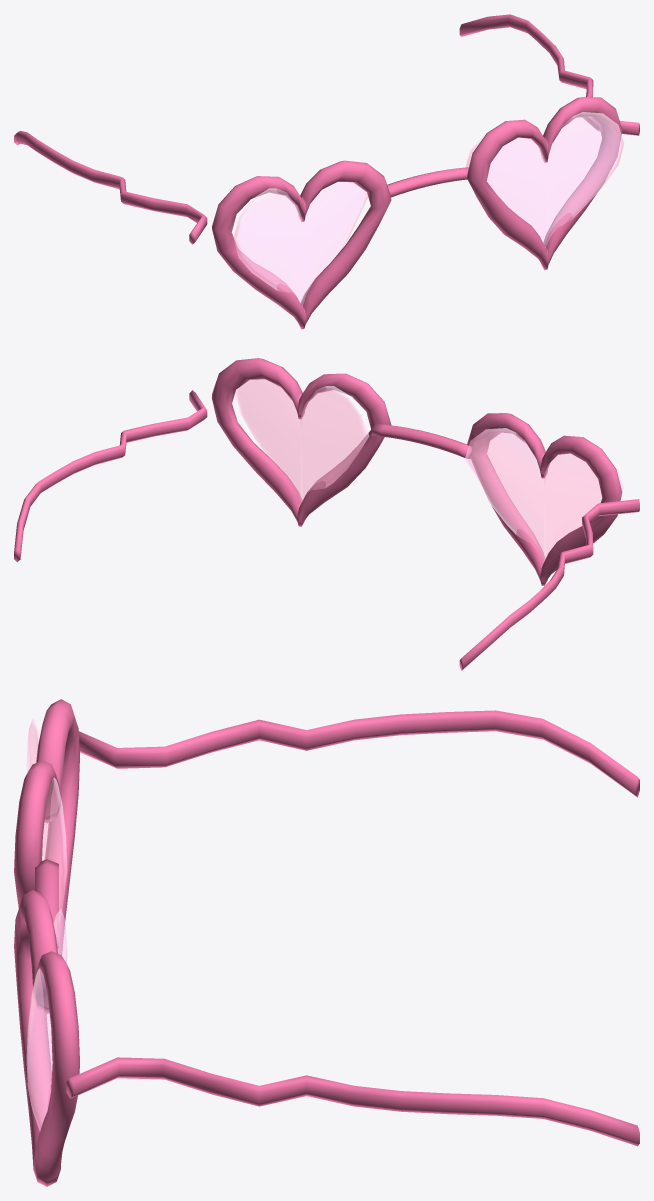
File: heart_sunglasses.glb
The picture shows the model from 3 angles, top to bottom: view 1: azimuth 30°, elevation 25°; view 2: azimuth 150°, elevation 25°; view 3: azimuth 270°, elevation 25°; orthographic projection. The views are drawn at different scales.
Parts seen in each view (by area): view 1: heart_sunglasses; view 2: heart_sunglasses; view 3: heart_sunglasses.
Part boxes in pixels (x1,y1,x2,y2): heart_sunglasses: [14, 14, 639, 329]; heart_sunglasses: [14, 358, 639, 670]; heart_sunglasses: [14, 699, 639, 1186].
Bounding box in the file's own units: 0.2407 × 0.0749 × 0.1637.
